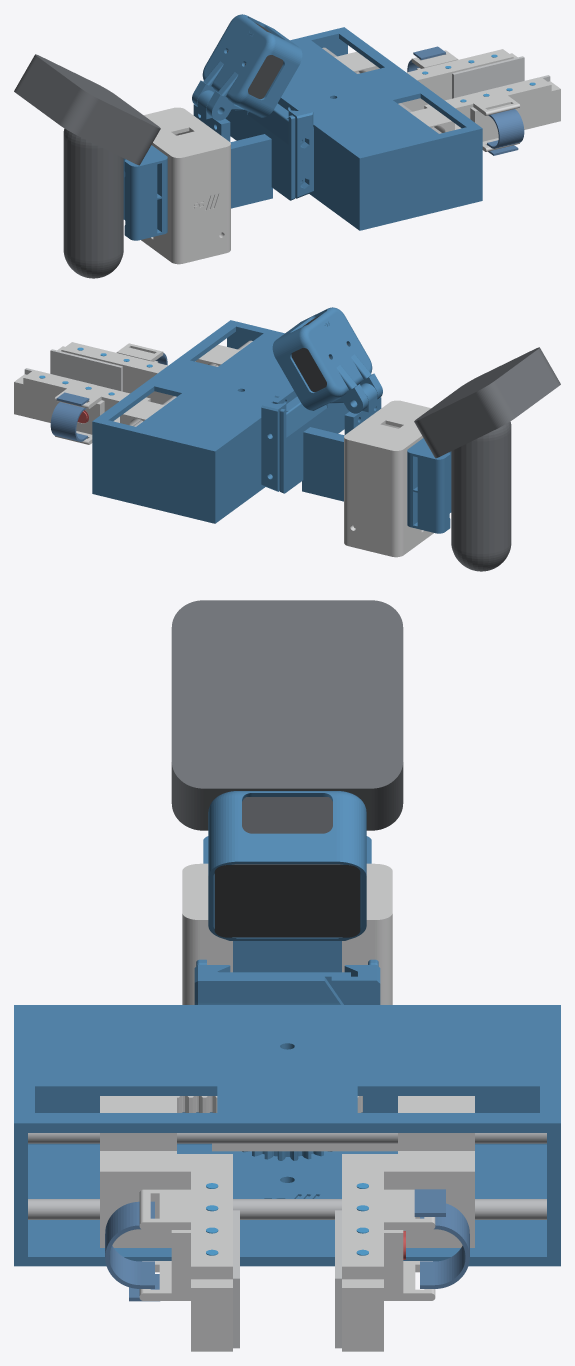
The model's file is parallel_left.glb.
3 renders of one model, top to bottom at view 1: azimuth 30°, elevation 25°; view 2: azimuth 150°, elevation 25°; view 3: azimuth 270°, elevation 25°, orthographic. The views are drawn at different scales.
Parts seen in each view (by area): view 1: parallel_base_dc, quest_controller_envelope, ebox, d405_cup, d405_frame, parallel_finger_right_sleeve, quest_cradle, parallel_finger_left_button, parallel_pad_left, parallel_strap_right, d405_envelope, parallel_carriage_right (+3 smaller); view 2: parallel_base_dc, quest_controller_envelope, ebox, d405_cup, d405_frame, parallel_finger_left_button, quest_cradle, parallel_finger_right_sleeve, parallel_pad_right, chopstick_clip_dc, parallel_strap_left, d405_envelope (+3 smaller); view 3: parallel_base_dc, quest_controller_envelope, parallel_finger_right_sleeve, parallel_finger_left_button, d405_envelope, d405_cup, ebox, parallel_rod_bottom, parallel_carriage_left, parallel_rod_top, d405_frame, parallel_carriage_right (+5 smaller).
Part boxes in pixels (bbox=[...]): parallel_base_dc: bbox=[225, 27, 482, 230]; quest_controller_envelope: bbox=[14, 54, 160, 278]; ebox: bbox=[144, 107, 230, 260]; d405_cup: bbox=[192, 14, 302, 120]; d405_frame: bbox=[193, 90, 295, 208]; parallel_finger_right_sleeve: bbox=[424, 77, 560, 151]; quest_cradle: bbox=[123, 145, 167, 240]; parallel_finger_left_button: bbox=[379, 49, 517, 111]; parallel_pad_left: bbox=[452, 56, 524, 98]; parallel_strap_right: bbox=[487, 109, 524, 155]; d405_envelope: bbox=[227, 22, 283, 99]; parallel_carriage_right: bbox=[410, 107, 454, 132]; parallel_base_dc: bbox=[92, 320, 349, 523]; quest_controller_envelope: bbox=[414, 347, 560, 571]; ebox: bbox=[344, 400, 430, 553]; d405_cup: bbox=[272, 307, 382, 413]; d405_frame: bbox=[279, 383, 381, 501]; parallel_finger_left_button: bbox=[14, 370, 150, 444]; quest_cradle: bbox=[407, 438, 451, 533]; parallel_finger_right_sleeve: bbox=[57, 342, 195, 404]; parallel_pad_right: bbox=[50, 349, 122, 391]; chopstick_clip_dc: bbox=[261, 397, 286, 491]; parallel_strap_left: bbox=[50, 392, 89, 441]; d405_envelope: bbox=[291, 315, 347, 392]; parallel_base_dc: bbox=[14, 965, 560, 1266]; quest_controller_envelope: bbox=[171, 600, 403, 830]; parallel_finger_right_sleeve: bbox=[100, 1151, 232, 1351]; parallel_finger_left_button: bbox=[342, 1151, 474, 1351]; d405_envelope: bbox=[214, 797, 360, 937]; d405_cup: bbox=[208, 791, 366, 940]; ebox: bbox=[182, 863, 392, 1004]; parallel_rod_bottom: bbox=[28, 1199, 546, 1219]; parallel_carriage_left: bbox=[212, 1096, 474, 1151]; parallel_rod_top: bbox=[28, 1133, 546, 1143]; d405_frame: bbox=[196, 941, 378, 972]; parallel_carriage_right: bbox=[100, 1096, 362, 1150].
Bounding box in the file's own units: 0.3243 × 0.1316 × 0.156.
